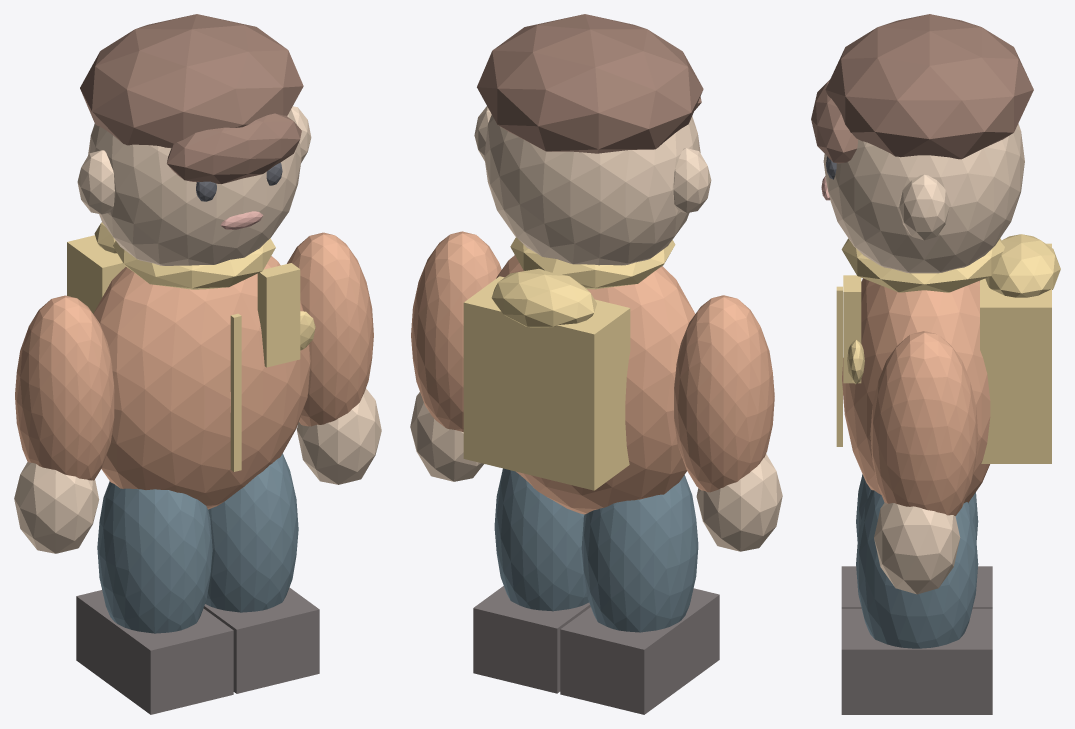
File: player_investigator.glb
3 views of the same model, side by side, from view 1: azimuth 30°, elevation 25°; view 2: azimuth 150°, elevation 25°; view 3: azimuth 270°, elevation 25° (orthographic).
Visible parts, largest first — view 1: torso, hair_cap, head, left_upper_arm, left_leg, left_boot, right_upper_arm, right_leg, right_boot, hair_fringe, left_hand, right_hand (+5 smaller); view 2: backpack, hair_cap, head, left_upper_arm, torso, left_leg, left_boot, right_upper_arm, right_leg, right_boot, left_hand, backpack_roll (+3 smaller); view 3: hair_cap, head, right_upper_arm, right_boot, torso, backpack, right_leg, right_hand, backpack_roll, scarf_wrap, right_ear, hair_fringe (+5 smaller).
Boxes of the visible parts, left/top/right/bottom form: torso: left=93, top=256, right=310, bottom=509; hair_cap: left=80, top=14, right=303, bottom=148; head: left=88, top=109, right=301, bottom=265; left_upper_arm: left=15, top=295, right=114, bottom=480; left_leg: left=97, top=481, right=212, bottom=633; left_boot: left=76, top=590, right=233, bottom=714; right_upper_arm: left=287, top=232, right=373, bottom=426; right_leg: left=205, top=453, right=298, bottom=612; right_boot: left=203, top=587, right=319, bottom=693; hair_fringe: left=167, top=113, right=301, bottom=184; left_hand: left=14, top=462, right=99, bottom=553; right_hand: left=296, top=388, right=381, bottom=484; backpack: left=463, top=276, right=630, bottom=490; hair_cap: left=477, top=14, right=703, bottom=153; head: left=484, top=115, right=700, bottom=265; left_upper_arm: left=674, top=295, right=774, bottom=492; torso: left=496, top=255, right=695, bottom=514; left_leg: left=581, top=475, right=698, bottom=632; left_boot: left=560, top=588, right=719, bottom=714; right_upper_arm: left=411, top=231, right=501, bottom=431; right_leg: left=494, top=468, right=588, bottom=611; right_boot: left=473, top=586, right=590, bottom=693; left_hand: left=696, top=454, right=782, bottom=551; backpack_roll: left=491, top=268, right=596, bottom=327; hair_cap: left=825, top=14, right=1033, bottom=159; head: left=823, top=123, right=1024, bottom=273; right_upper_arm: left=870, top=331, right=978, bottom=515; right_boot: left=841, top=608, right=992, bottom=714; torso: left=842, top=278, right=990, bottom=502; backpack: left=980, top=243, right=1051, bottom=463; right_leg: left=856, top=490, right=978, bottom=648; right_hand: left=874, top=502, right=960, bottom=594; backpack_roll: left=985, top=234, right=1060, bottom=297; scarf_wrap: left=841, top=238, right=1004, bottom=292; right_ear: left=899, top=174, right=949, bottom=240; hair_fringe: left=811, top=80, right=857, bottom=163.
Size of the model in its own units: 1.16 by 1.97 by 0.695.
